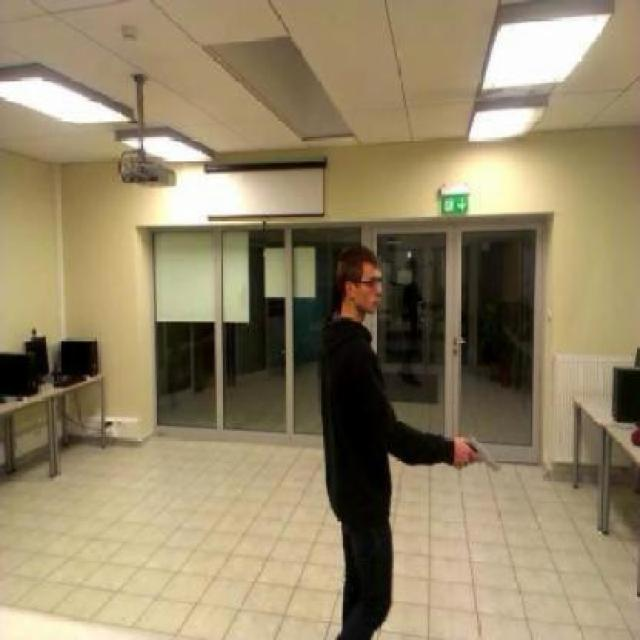gun: (457, 434, 500, 471)
